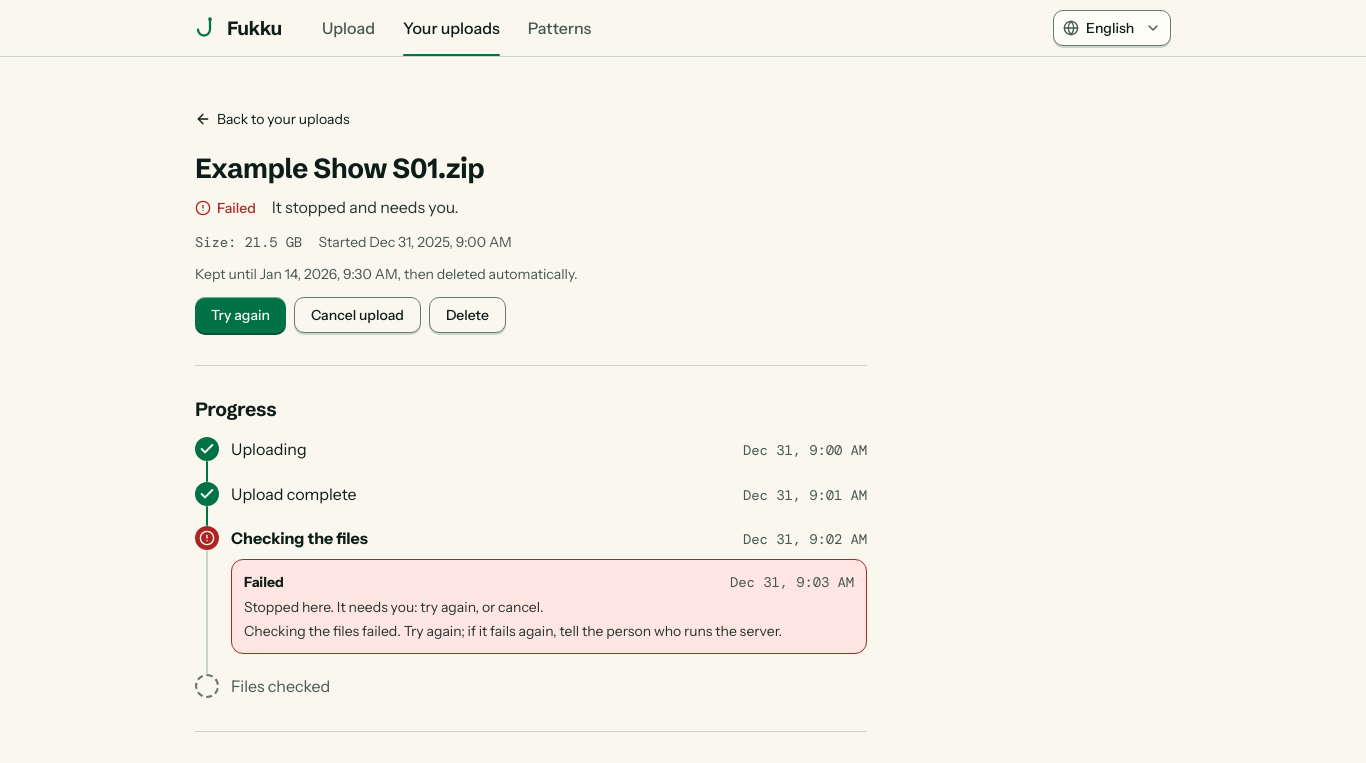
a failed job › retry asks first, then moves the job on
The image size is (1366, 763).
Click the button "Try again": coordinates (240, 315) left=195, top=297, right=286, bottom=333
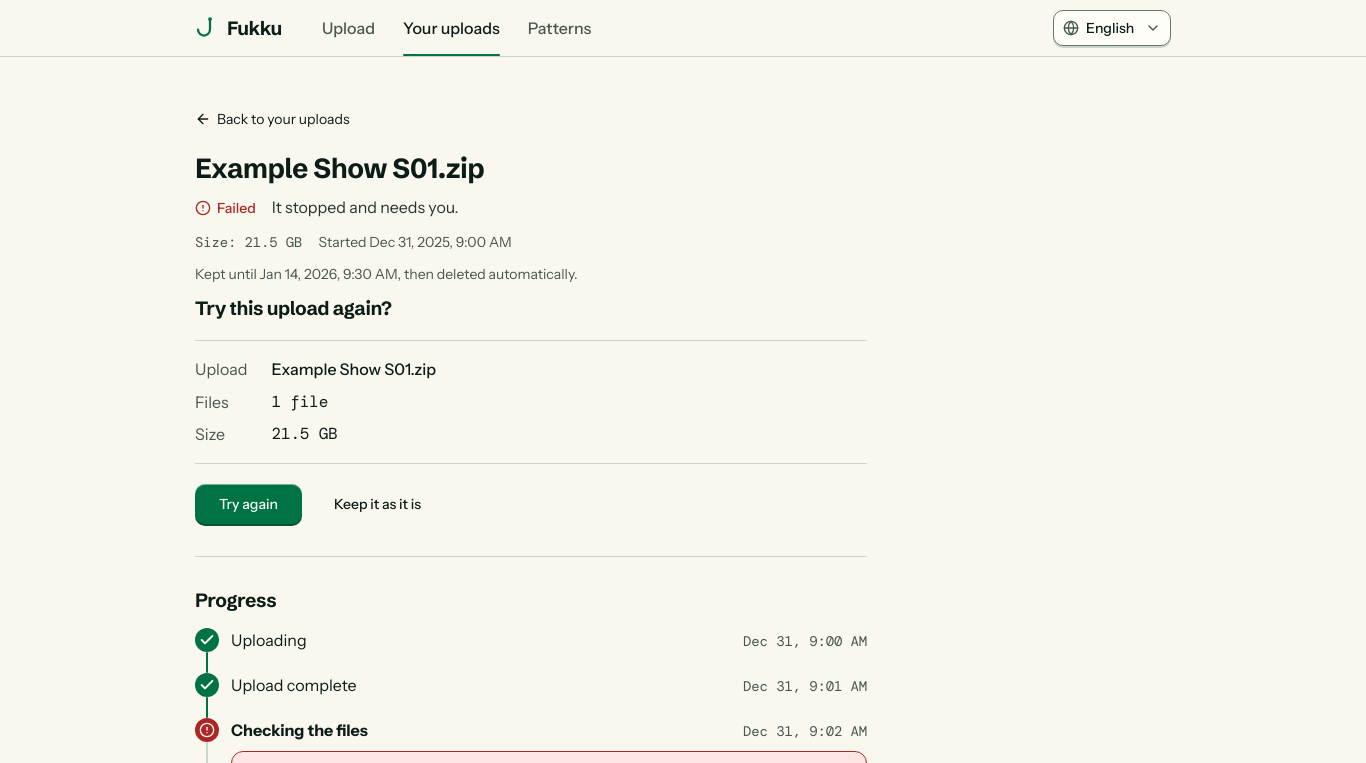
Expected: the text "Uploaded" is not shown
Expected: the heading "Try this upload again?" is shown, left=195, top=296, right=391, bottom=320
Click the button "Try again": coordinates (248, 504) left=195, top=484, right=302, bottom=524
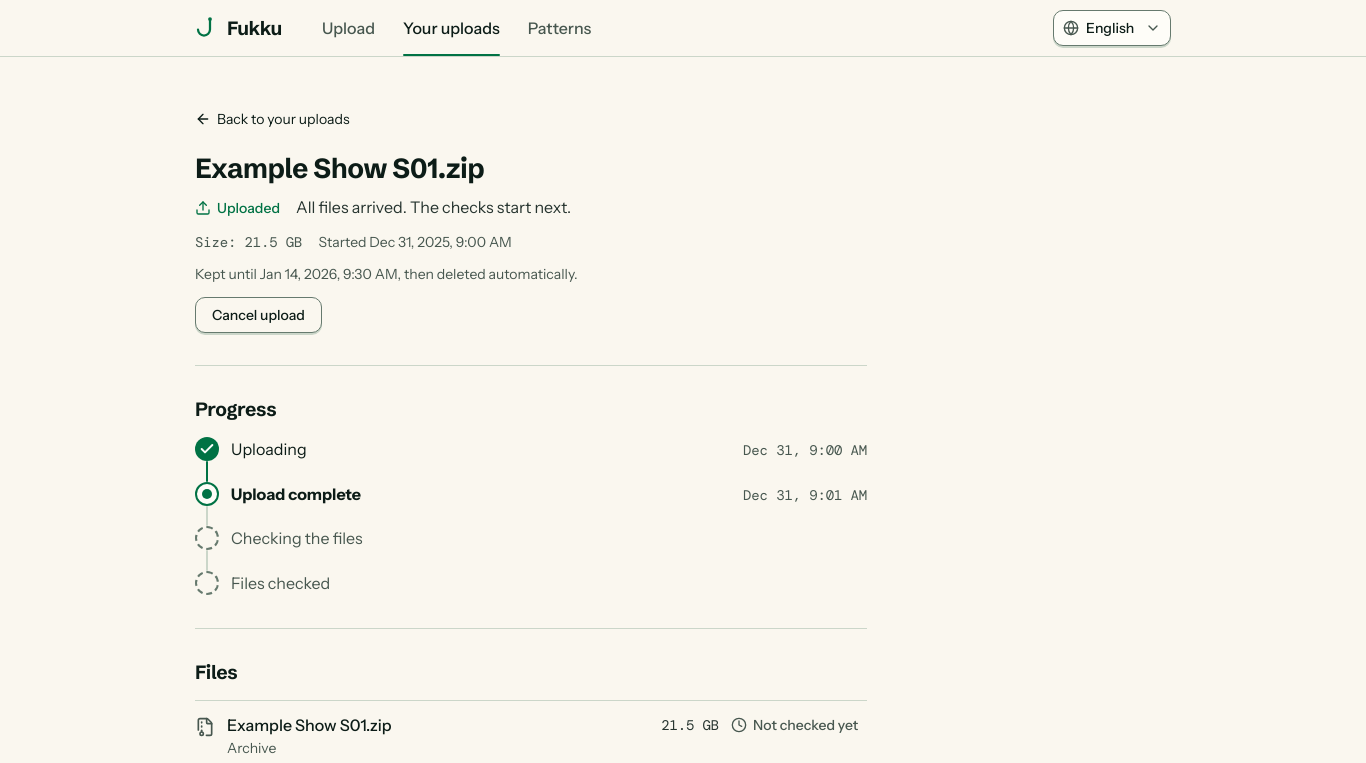
Expected: the form is gone
Expected: the text "Uploaded" is shown, left=195, top=198, right=280, bottom=218
Expected: the button "Try again" is gone
